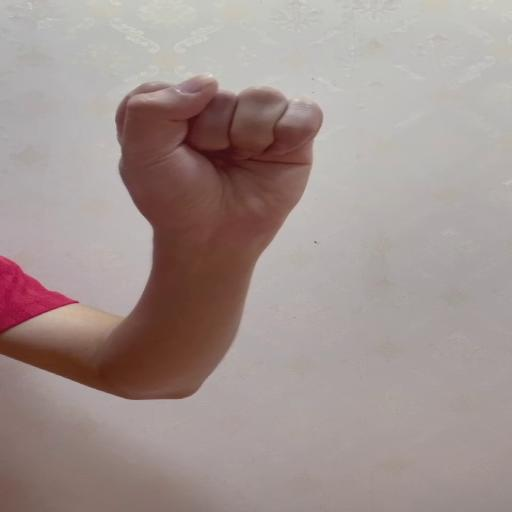fist: (114, 71, 326, 235)
